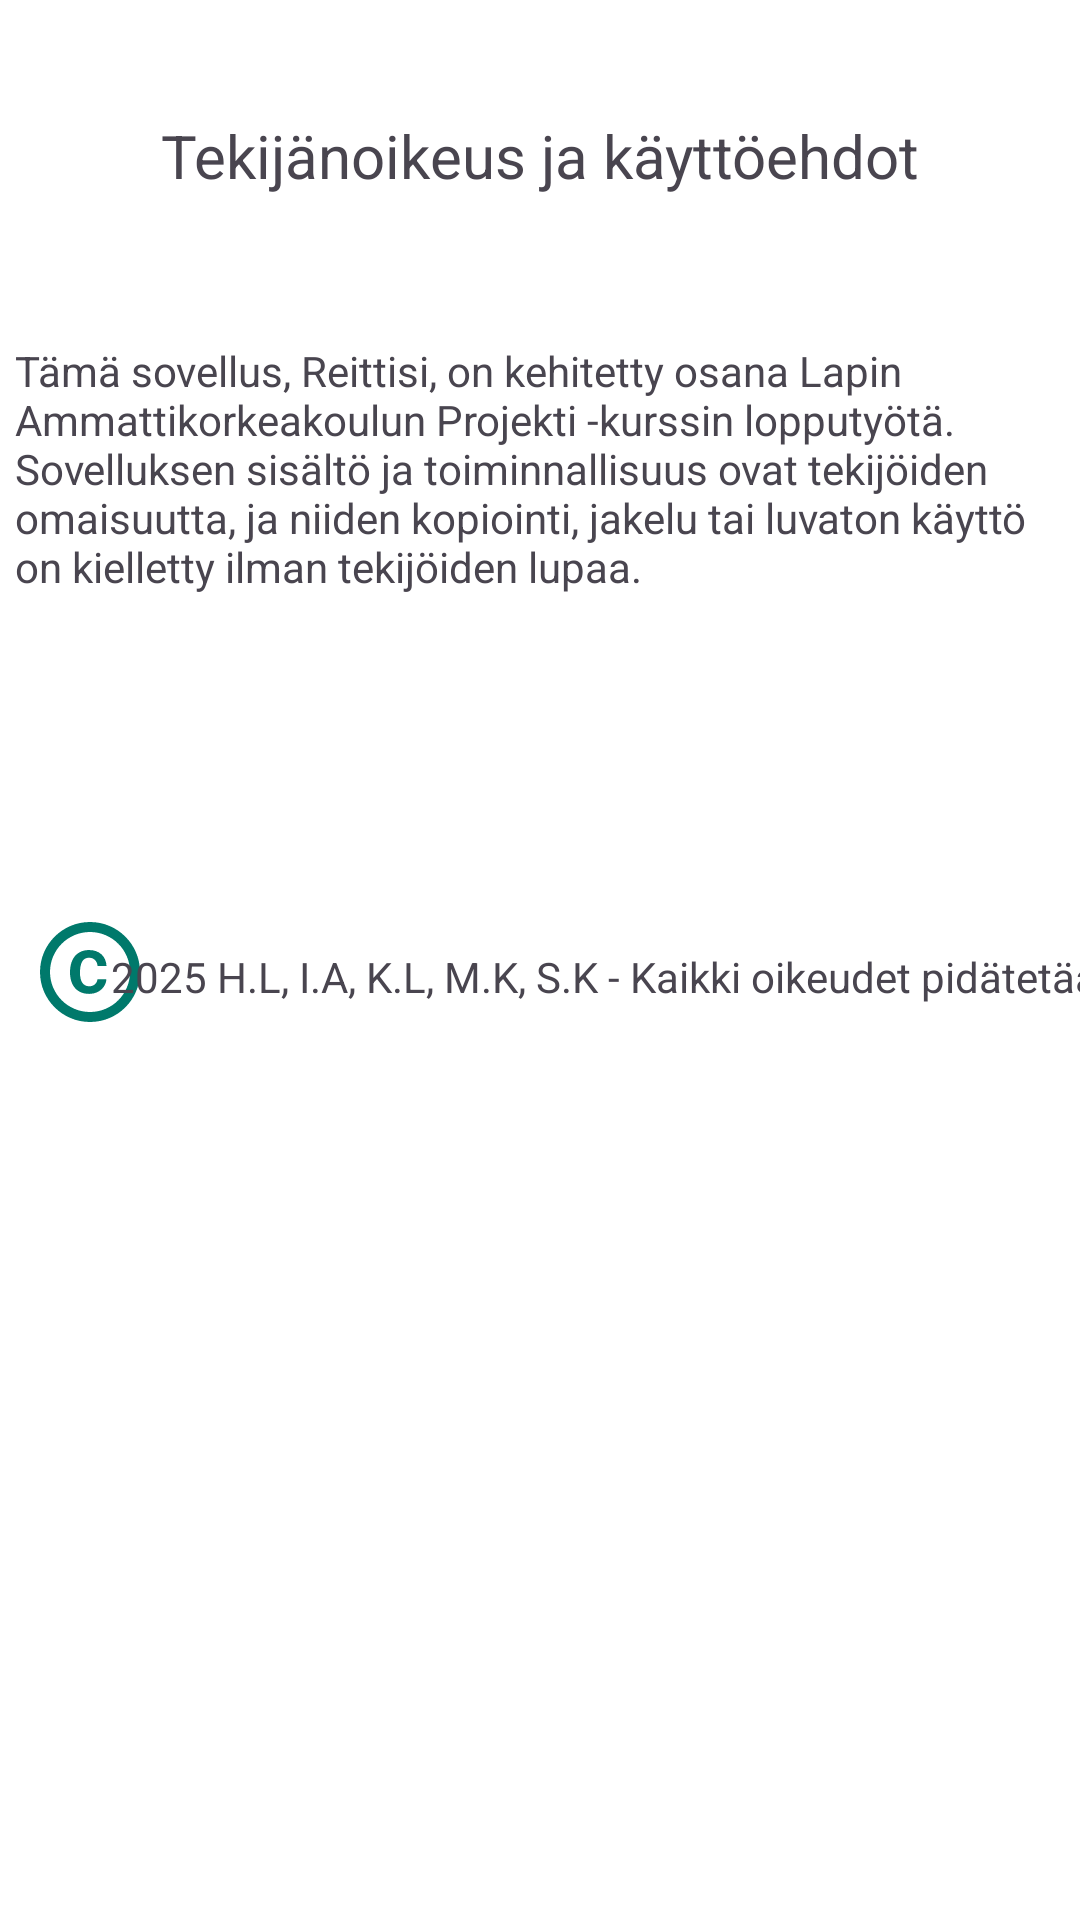

Icon click points for this 1080px x 1920px phone screenshot, format point (x, y):
copyright: point (95, 972)
